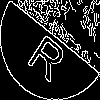R: (25, 25, 74, 83)
